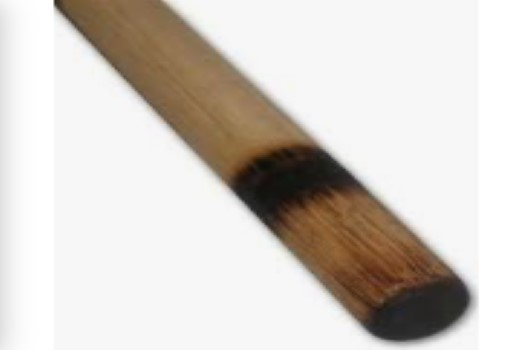baston_e: (55, 13, 464, 266)
baston_v: (308, 219, 481, 348)
